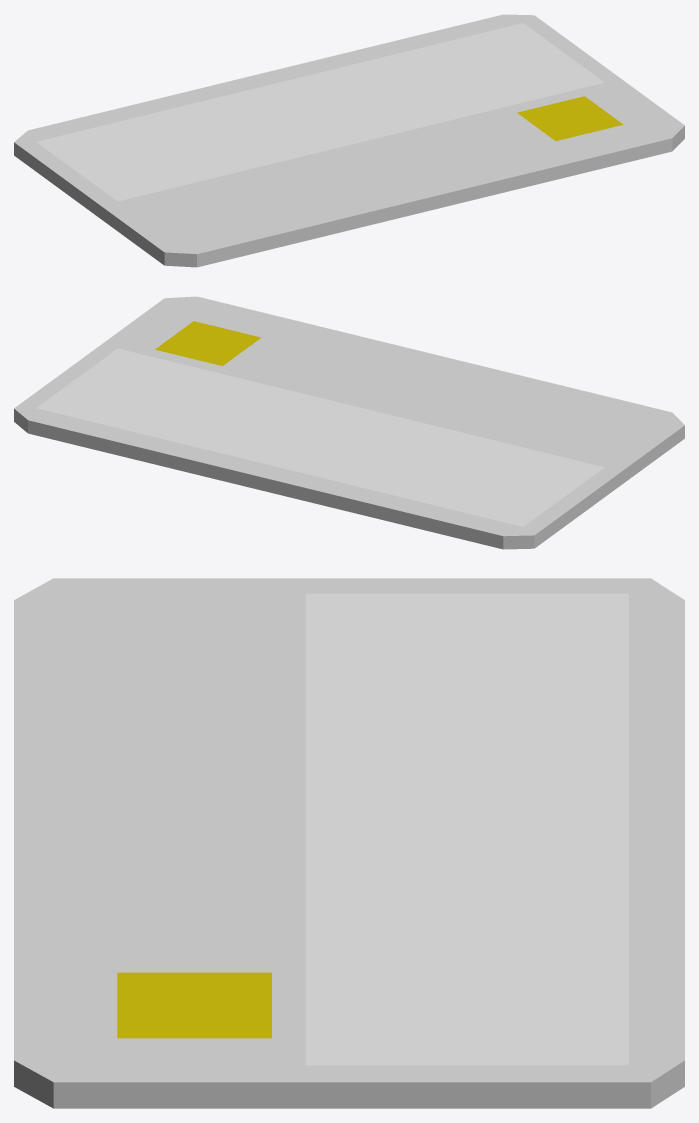
The model's file is keycard.fbx.
The picture shows the model from 3 angles, top to bottom: view 1: azimuth 30°, elevation 25°; view 2: azimuth 150°, elevation 25°; view 3: azimuth 270°, elevation 25°; orthographic projection. The views are drawn at different scales.
Parts seen in each view (by area): view 1: Cube, Plane; view 2: Cube, Plane; view 3: Cube, Plane.
Part boxes in pixels (x1,y1,x2,y2): Cube: [14, 14, 684, 267]; Plane: [36, 23, 604, 201]; Cube: [14, 296, 684, 549]; Plane: [36, 348, 604, 526]; Cube: [14, 578, 684, 1108]; Plane: [305, 593, 628, 1065].
Size of the model in its own units: 112 by 2.79 by 62.81.
